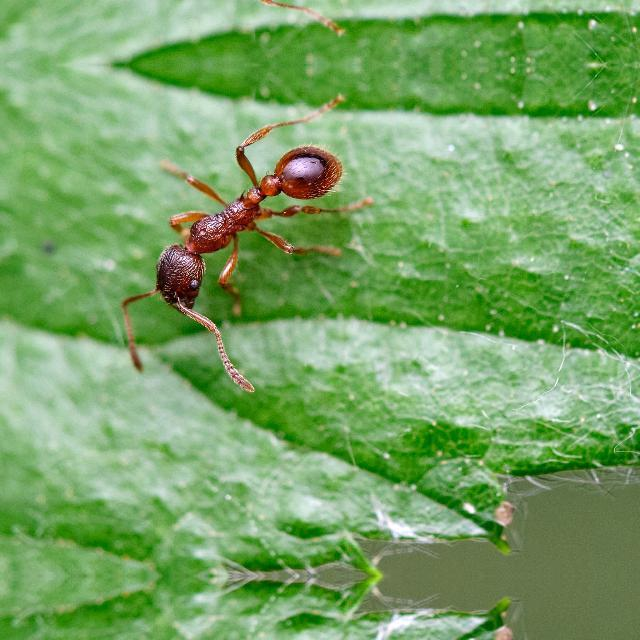Myrmica: (112, 112, 376, 348)
